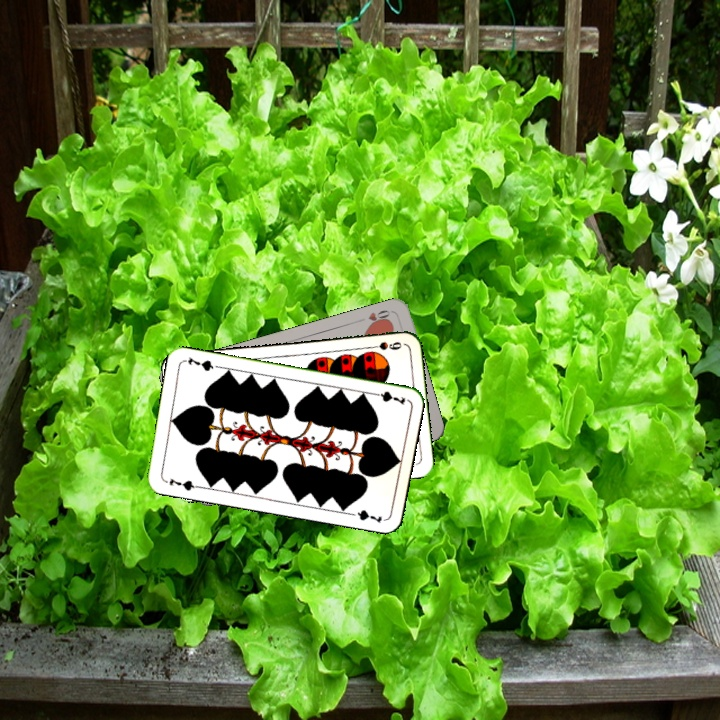G7: (368, 387, 408, 407), (165, 474, 201, 493)
HO: (354, 306, 394, 329)
S9: (364, 337, 404, 352)
